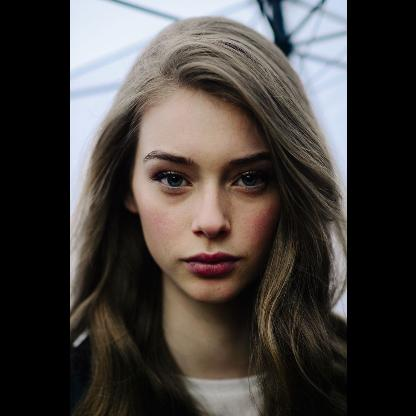Female: (123, 80, 281, 300)
